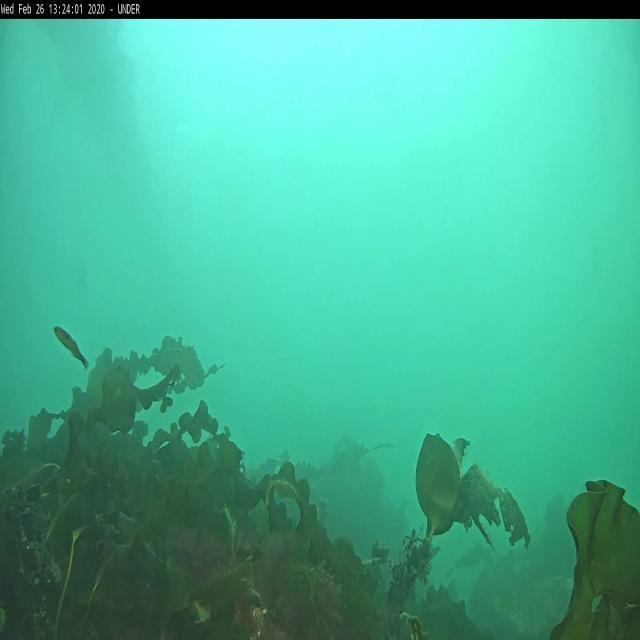fish: (54, 322, 88, 370)
